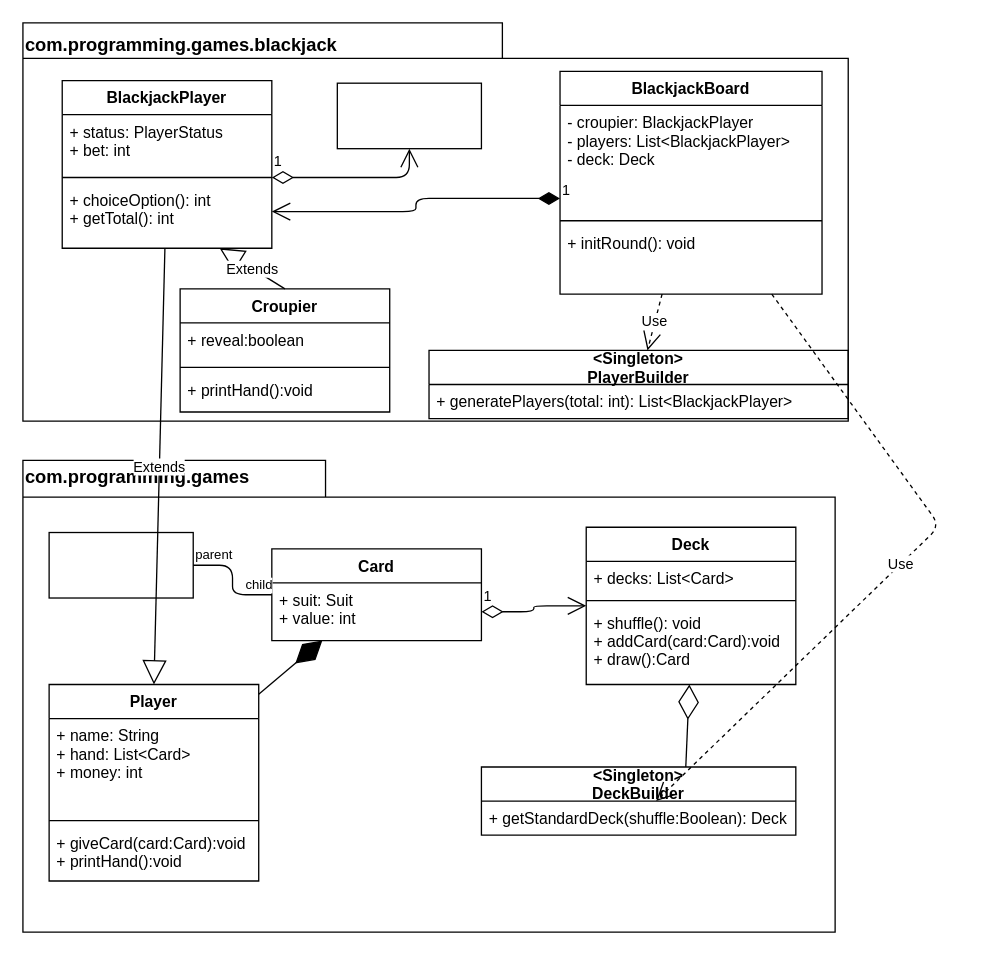
The diagram is 981 pixels wide and 955 high, and some of its shapes have lost their labels. Here are the shapes that lost their labels. From the top down, the centre of each, then its label:
(408,115): «enum» PlayerStatus
(120,564): «enum» Suit
